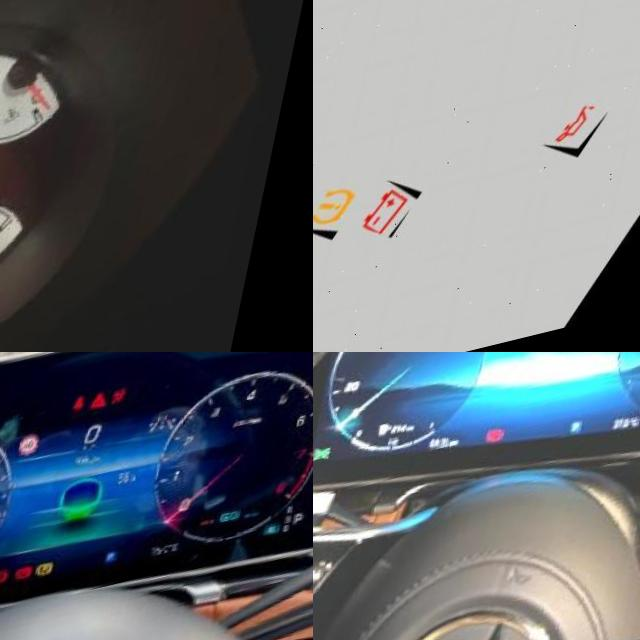Seat Belt: (78, 408, 96, 427)
